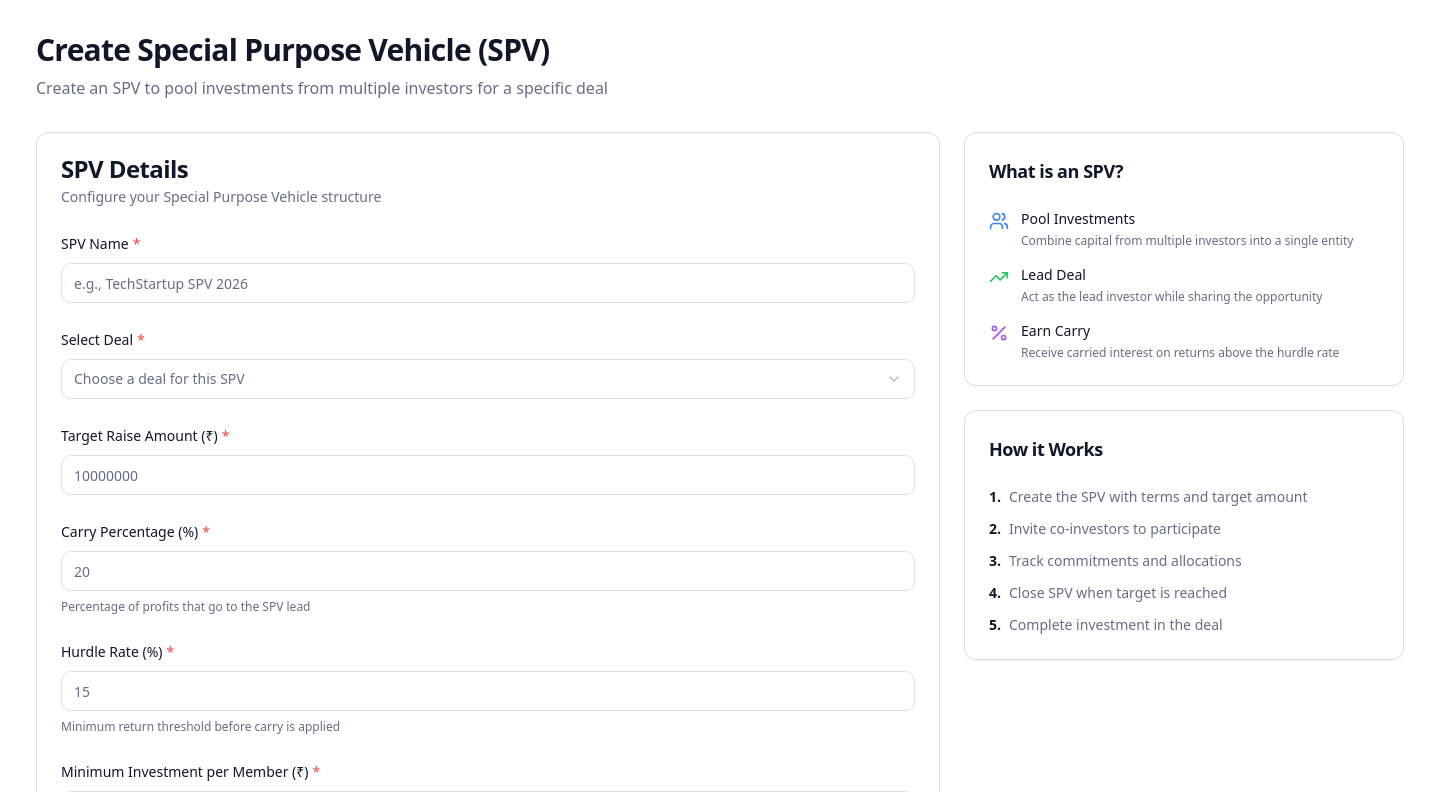
US-INVESTOR-008: Create SPV › Deal Selection › should allow selecting a deal
Click the dropdown named "Select Deal".
click(159, 378)  # box [61,359,915,399]
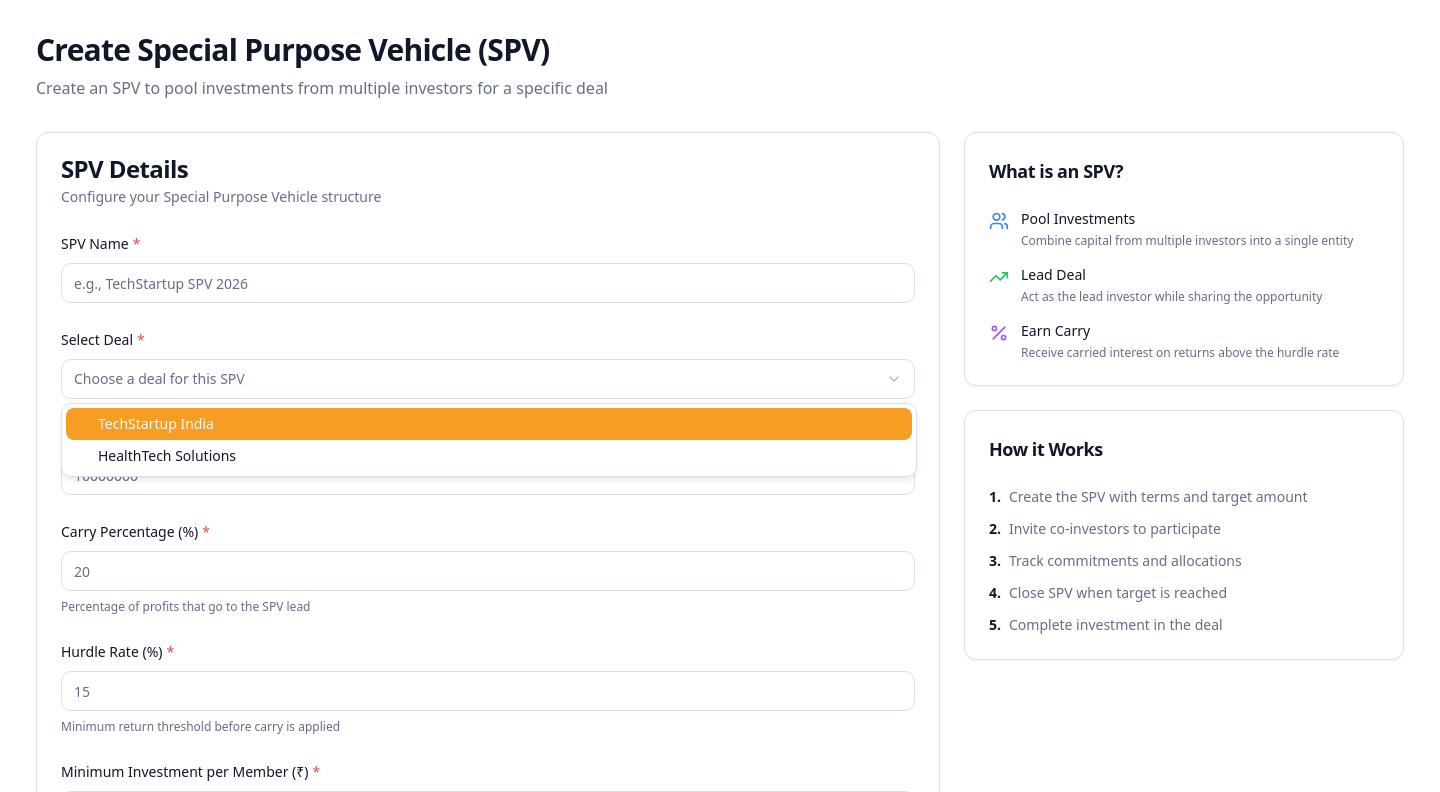
Check: the option "TechStartup India" is shown, box [66,408,912,440]
